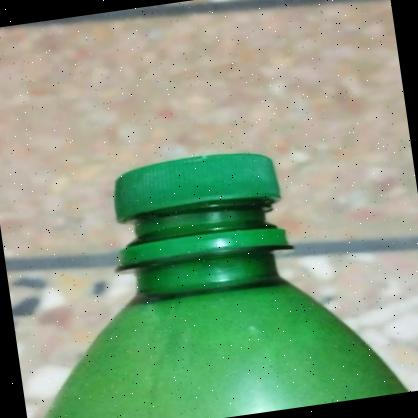cap: (104, 144, 292, 267)
